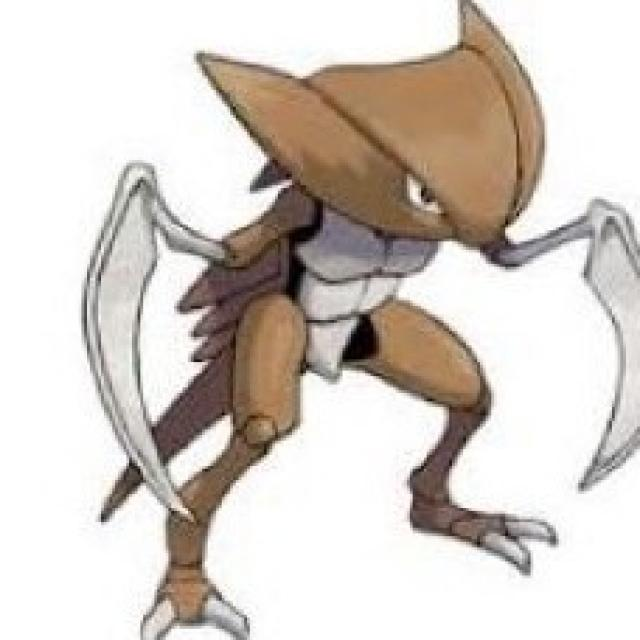Kabutops: (86, 0, 548, 558)
